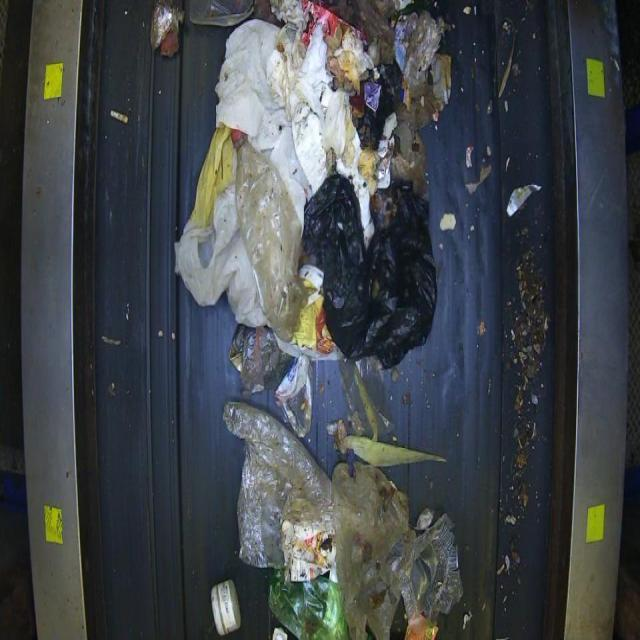cardboard: (19, 0, 631, 639)
